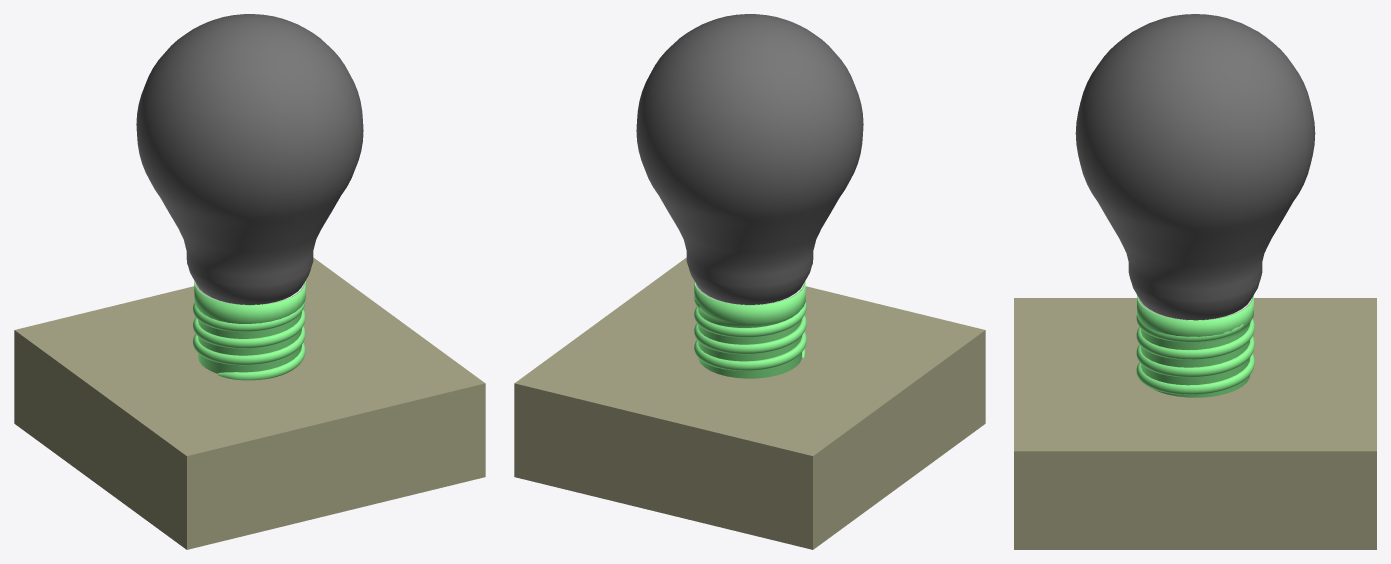
Rendered from bulb_box.gltf.
The picture shows the model from 3 angles, left to right: view 1: azimuth 30°, elevation 25°; view 2: azimuth 150°, elevation 25°; view 3: azimuth 270°, elevation 25°; orthographic projection. The views are drawn at different scales.
Visible parts, largest first — view 1: Cube.004, bulb.003, screwcap.003; view 2: Cube.004, bulb.003, screwcap.003; view 3: Cube.004, bulb.003, screwcap.003.
Boxes of the visible parts, x1,y1,x2,y2 form: Cube.004: (14,257,485,549); bulb.003: (136,14,363,304); screwcap.003: (193,281,305,380); Cube.004: (514,257,985,549); bulb.003: (636,14,863,304); screwcap.003: (694,281,806,378); Cube.004: (1014,298,1376,549); bulb.003: (1075,14,1315,320); screwcap.003: (1136,295,1254,397).
Size of the model in its own units: 0.2 by 0.2726 by 0.2.
